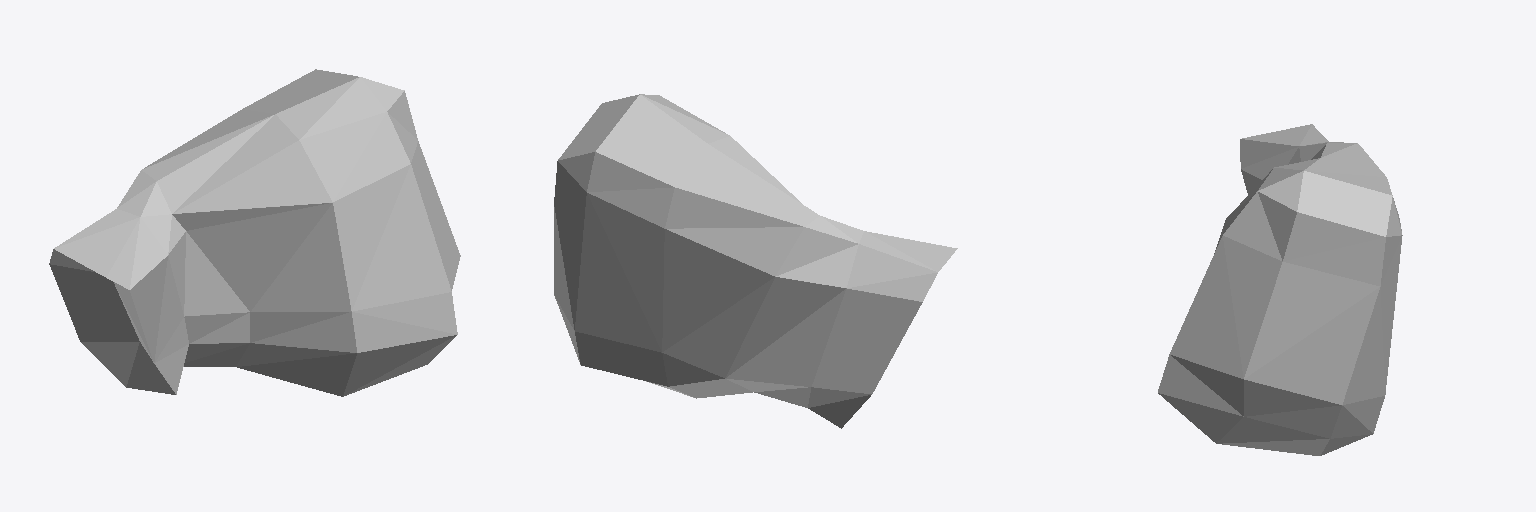
File: bag001a.obj
3 renders of one model, left to right at view 1: azimuth 30°, elevation 25°; view 2: azimuth 150°, elevation 25°; view 3: azimuth 270°, elevation 25°, orthographic.
Parts seen in each view (by area): view 1: bag001a; view 2: bag001a; view 3: bag001a.
Part boxes in pixels (x1,y1,x2,y2): bag001a: (49,69,460,396); bag001a: (554,94,957,428); bag001a: (1158,124,1402,455).
Size of the model in its own units: 18.05 by 13.14 by 10.27.